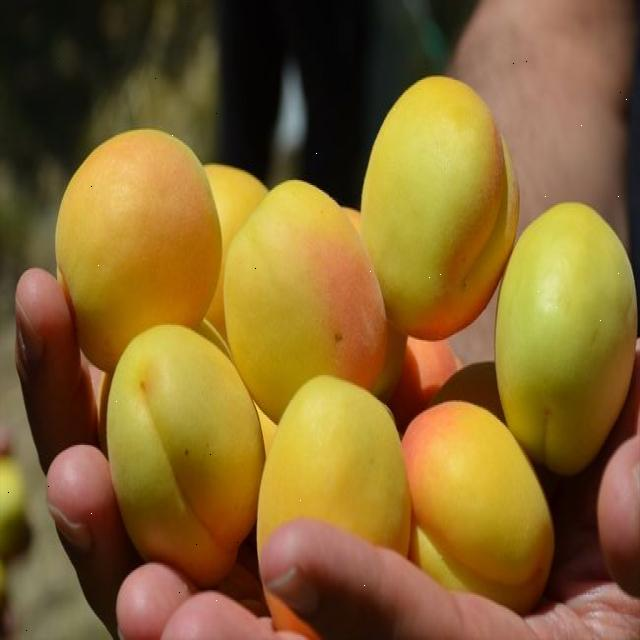kayisi: (105, 323, 266, 592), (360, 77, 521, 343), (55, 128, 224, 378), (494, 203, 639, 480), (224, 182, 383, 427), (401, 402, 555, 618), (255, 377, 416, 568)
